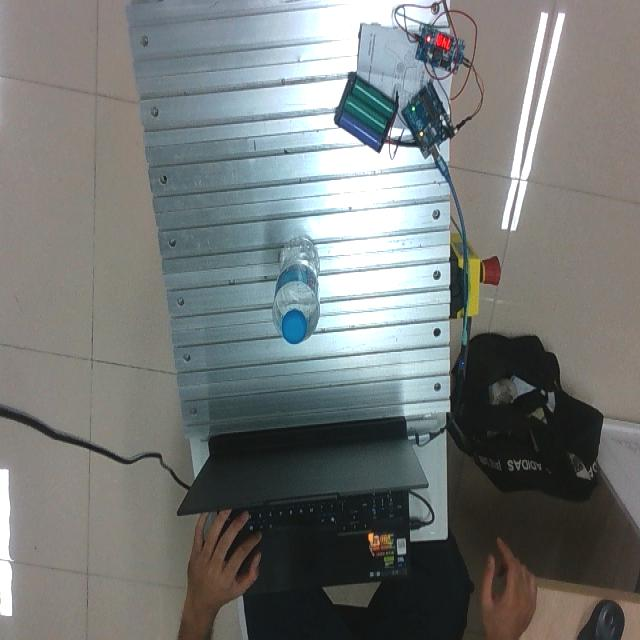lavie: (273, 238, 321, 346)
